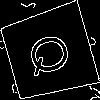Q: (24, 28, 81, 80)
